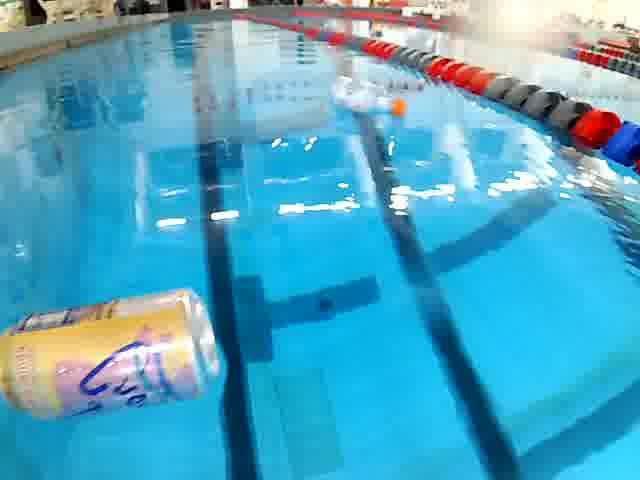Bottle: (322, 70, 420, 123), (347, 56, 430, 94)
Can: (0, 280, 228, 431)
